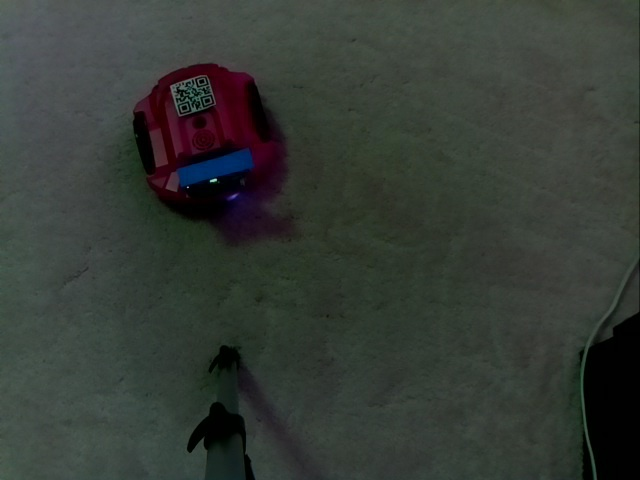board: (168, 149, 266, 189)
chassis: (128, 58, 278, 209)
